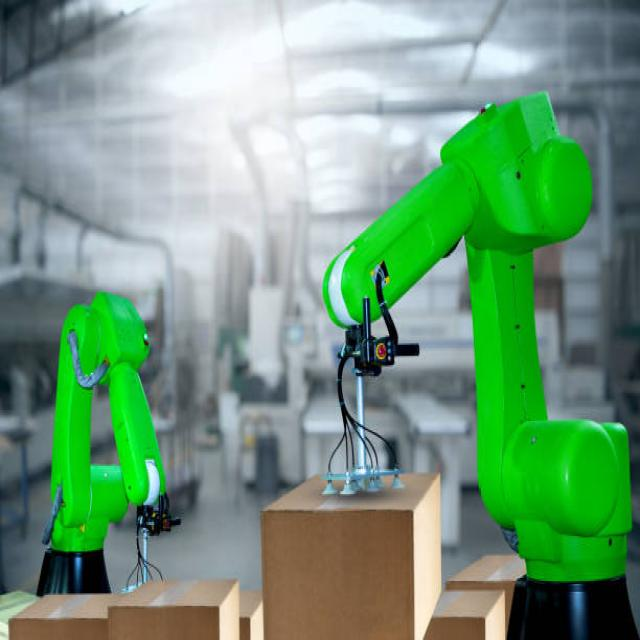Robotic-arm: (315, 86, 636, 592), (36, 286, 181, 584)
